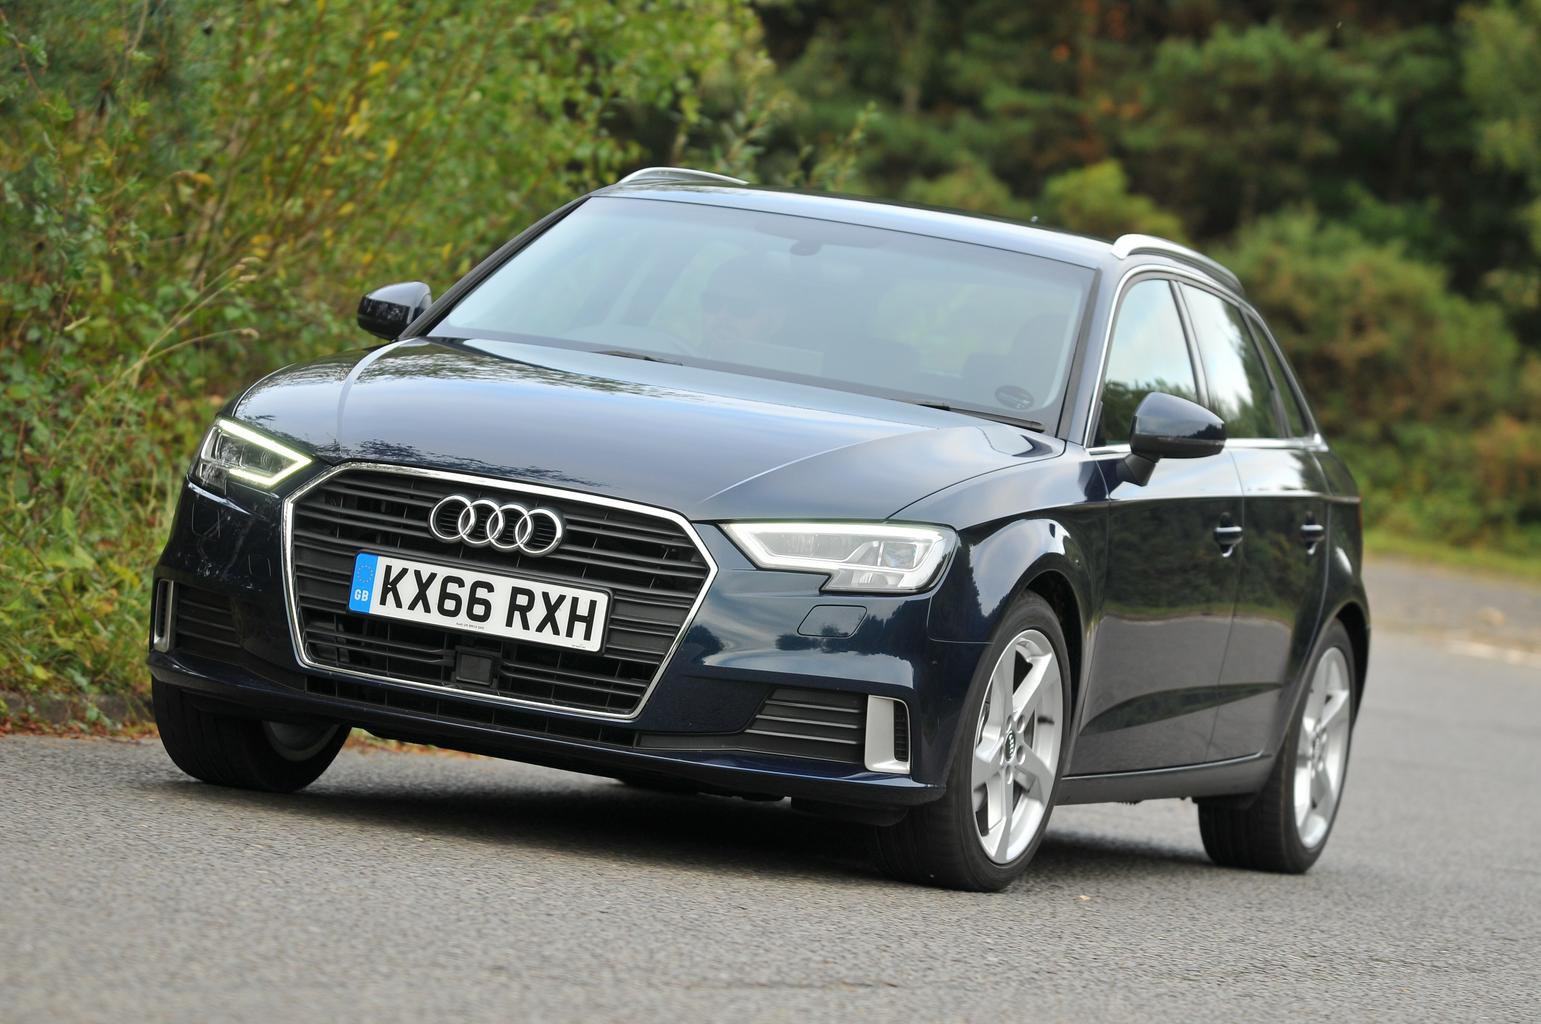Car: (153, 147, 1364, 855)
